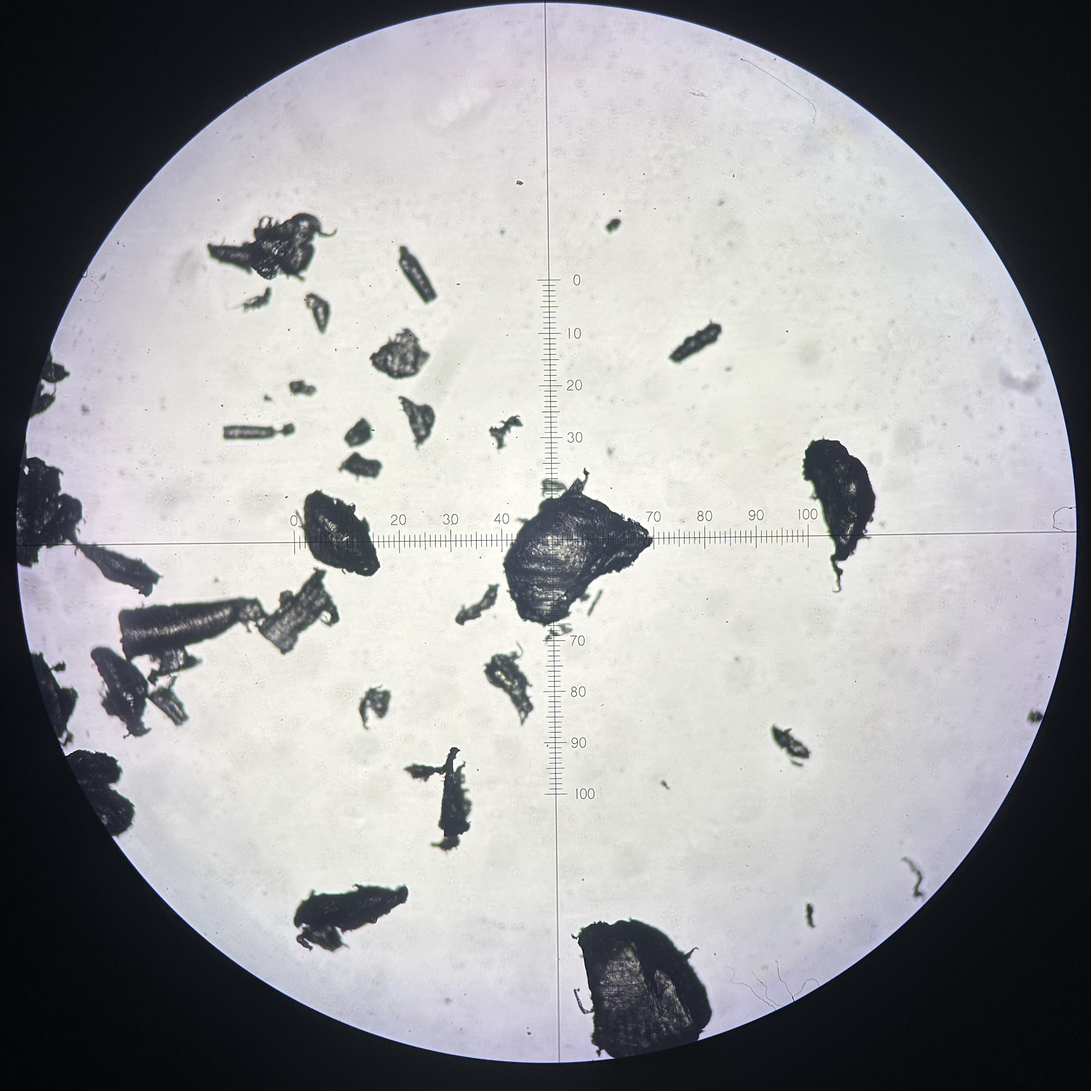microplastic: (502, 467, 654, 629), (570, 914, 715, 1061), (798, 435, 879, 597), (118, 596, 266, 664), (205, 211, 340, 285), (16, 441, 86, 569), (290, 883, 410, 954), (402, 745, 474, 854), (295, 489, 381, 577), (258, 568, 341, 657), (65, 749, 136, 838), (89, 646, 153, 741), (480, 639, 537, 728), (75, 543, 164, 598), (368, 326, 433, 382), (41, 653, 81, 739), (667, 319, 723, 365), (397, 244, 439, 305), (396, 394, 438, 452), (453, 582, 502, 627), (768, 721, 812, 768), (147, 685, 190, 727), (358, 683, 393, 732), (155, 645, 204, 677), (27, 382, 64, 424), (337, 451, 384, 483), (898, 854, 928, 904), (486, 414, 524, 451), (37, 345, 71, 384), (303, 291, 332, 336), (342, 417, 374, 449), (221, 423, 279, 440), (242, 285, 272, 314), (541, 478, 570, 499), (288, 379, 319, 398), (804, 901, 820, 931), (604, 217, 624, 235), (58, 731, 76, 750), (588, 591, 601, 616), (164, 677, 177, 699), (1026, 708, 1043, 724), (147, 668, 161, 687), (282, 421, 296, 438), (51, 660, 68, 673), (559, 622, 574, 636), (658, 777, 671, 791), (261, 393, 275, 403), (550, 627, 560, 638), (543, 635, 553, 645), (514, 179, 524, 186)
